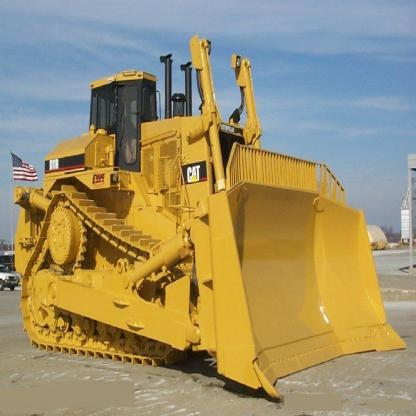bull_dozer/loader/grader: (7, 28, 404, 404)
